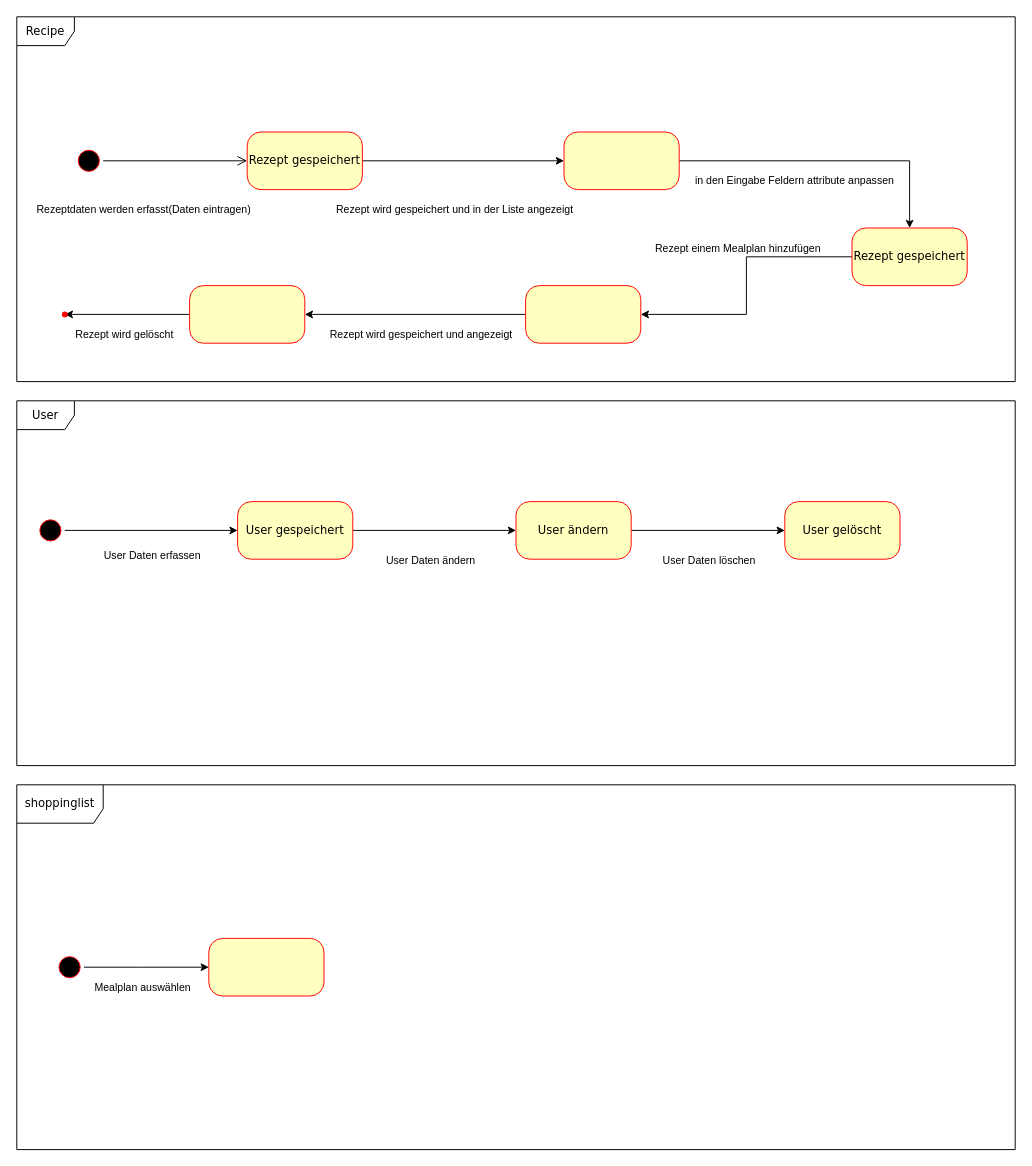
Some shapes in this 1032 by 1166 pixel diagram are drawn without their labels. The shapes that lost their labels are listed below. From the top down, each one's centre as x and y in pixels, then its label:
point (621, 160): Rezept geändert
point (247, 314): Rezept gelöscht
point (583, 314): Rezept hinzugefügt
point (266, 966): Rezepte offen
